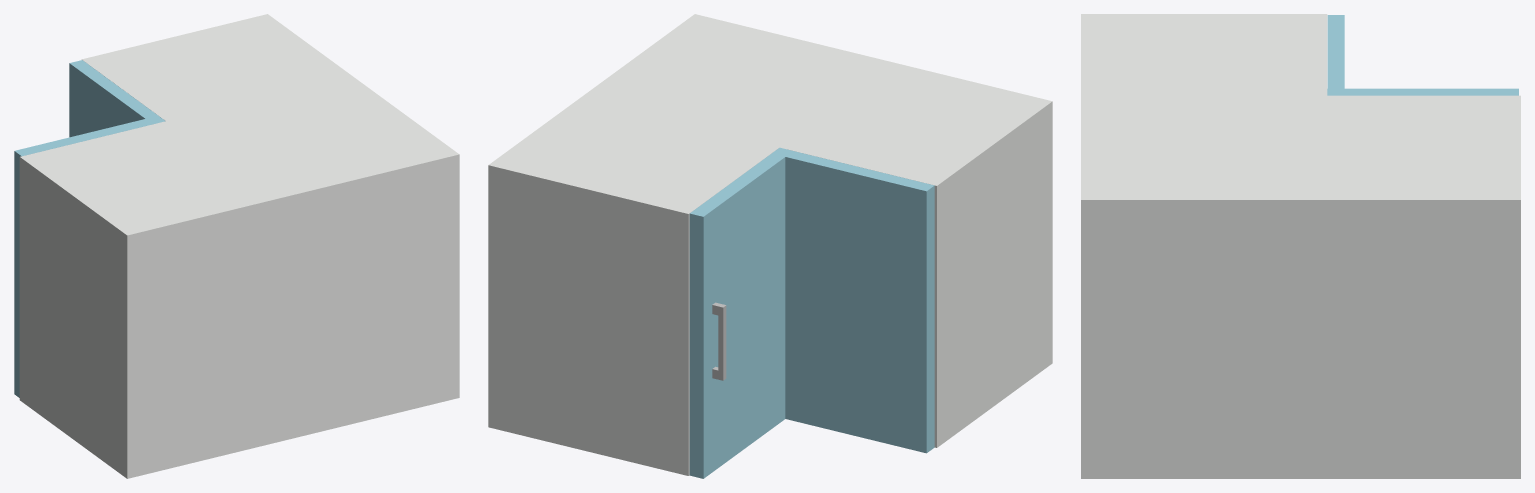
Rendered from Counter_Corner 1.fbx.
3 renders of one model, left to right at view 1: azimuth 30°, elevation 25°; view 2: azimuth 150°, elevation 25°; view 3: azimuth 270°, elevation 25°, orthographic. The views are drawn at different scales.
Visible parts, largest first — view 1: CounterCORNERType1, CounterType4DOOR.001; view 2: CounterCORNERType1, CounterType4DOOR.001; view 3: CounterCORNERType1, CounterType4DOOR.001.
Part boxes in pixels (bbox=[...]): CounterCORNERType1: bbox=[19, 14, 459, 478]; CounterType4DOOR.001: bbox=[14, 60, 165, 397]; CounterCORNERType1: bbox=[488, 14, 1052, 475]; CounterType4DOOR.001: bbox=[689, 147, 934, 478]; CounterCORNERType1: bbox=[1081, 14, 1520, 478]; CounterType4DOOR.001: bbox=[1327, 15, 1518, 95].
Size of the model in its own units: 100 by 70 by 100.
